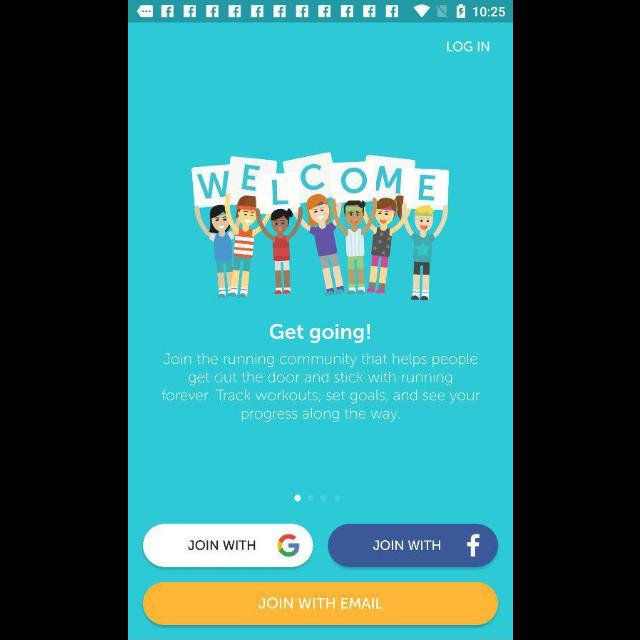image: (189, 150, 449, 302)
pageindicator: (292, 494, 340, 502)
text: (160, 352, 480, 424), (270, 324, 370, 344), (445, 41, 489, 53)
textbutton: (142, 582, 498, 626), (142, 524, 314, 568), (327, 524, 498, 568)
uppertaskbar: (128, 1, 512, 23)
